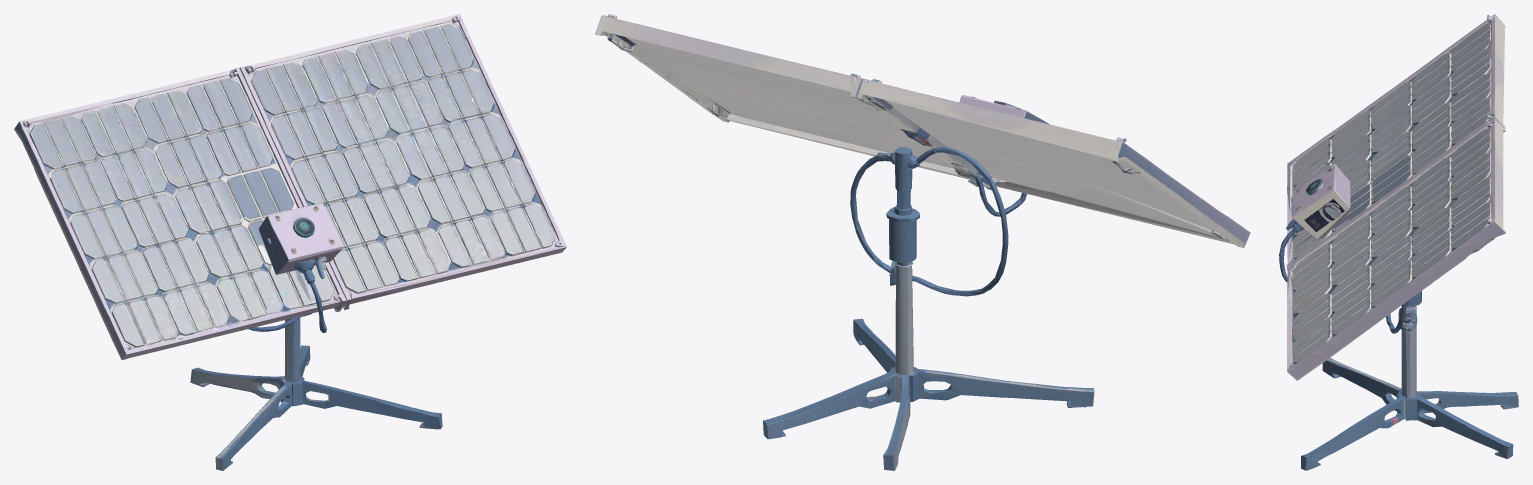
File: solar-array.gltf
3 views of the same model, side by side, from view 1: azimuth 30°, elevation 25°; view 2: azimuth 150°, elevation 25°; view 3: azimuth 270°, elevation 25° (orthographic). The views are drawn at different scales.
Size of the model in its own units: 1.9 by 1.31 by 0.926.
Materials: 1 (1 with a texture image).
